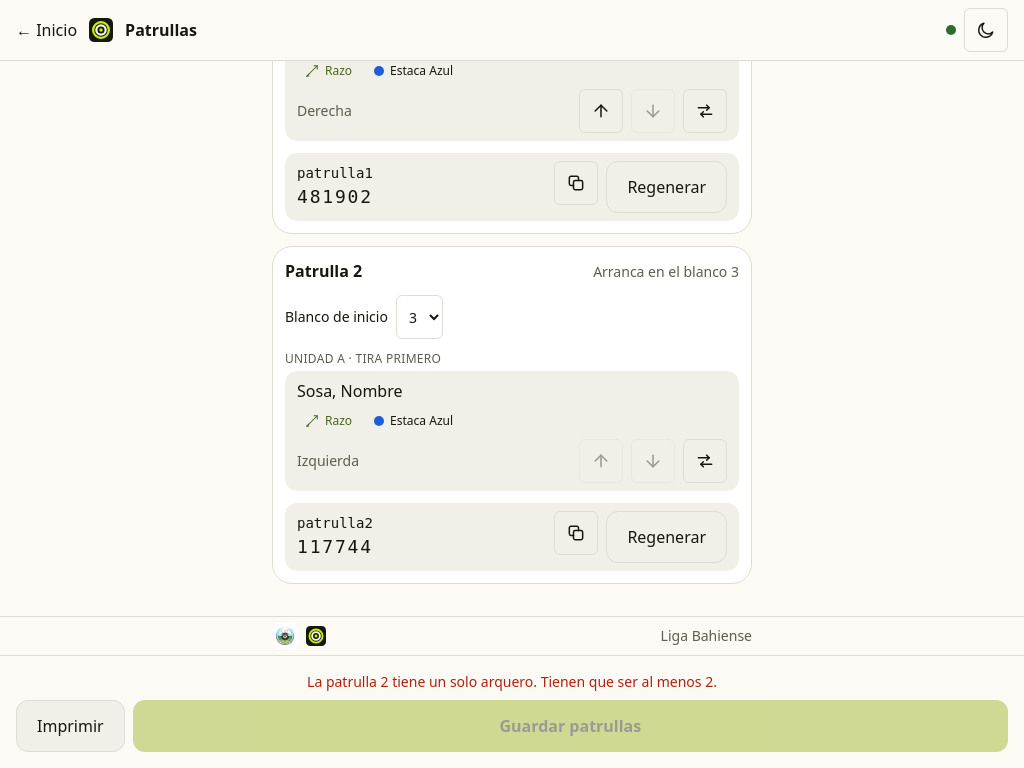
Test: edición manual › un quinto arquero › bloquea el guardado y dice cuál es el tope
(page scrolled)
Click the button named "Mover a Sosa a otra patrulla" at x=705, y=461, box [683, 439, 727, 483]
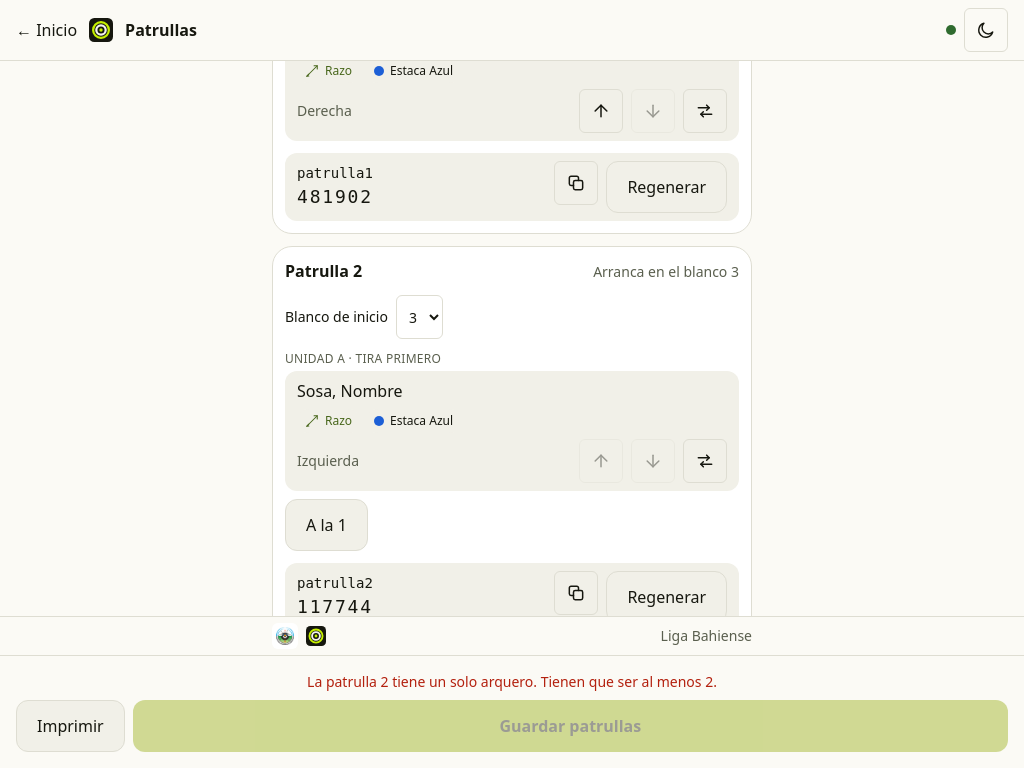
Click the button "A la 1" at x=326, y=525, box [285, 499, 368, 551]
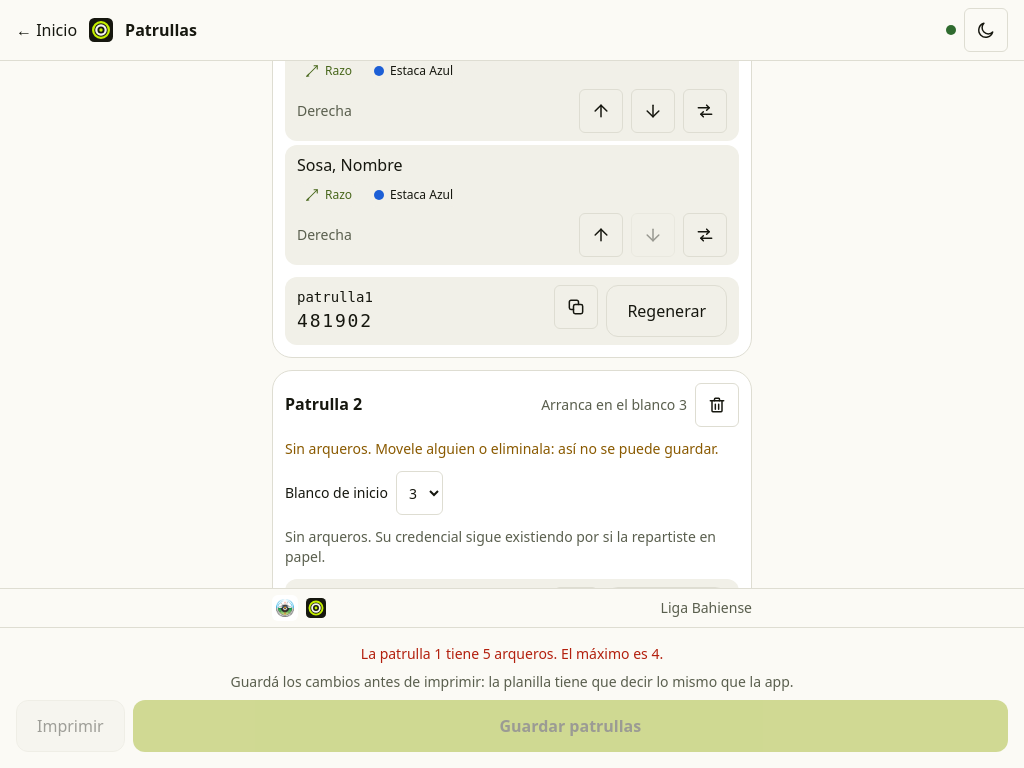
expect the button "Guardar patrullas" is disabled: met, box [133, 700, 1008, 752]
expect the text "La patrulla 1 tiene 5 arqueros. El máximo es 4." is shown: met, box [361, 644, 663, 663]
